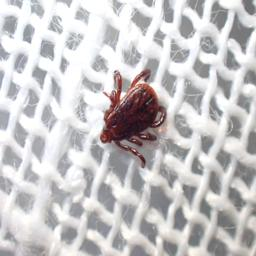Rhipicephalus sanguineus: (100, 69, 166, 168)
